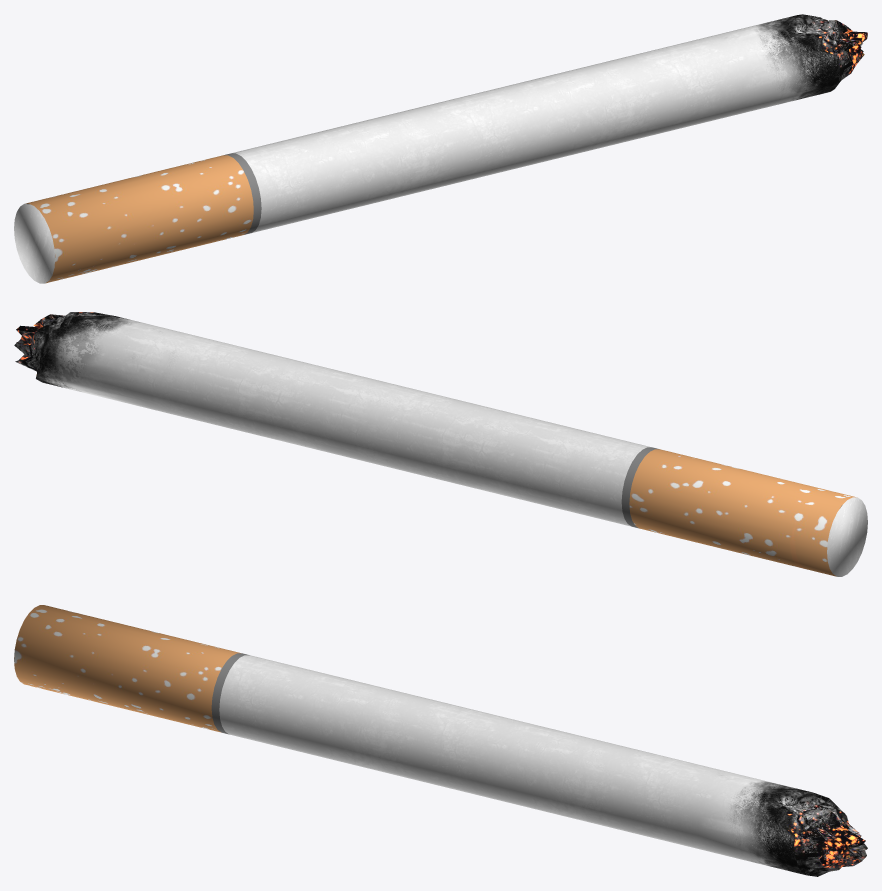
Rendered from cigarette.glb.
The picture shows the model from 3 angles, top to bottom: view 1: azimuth 30°, elevation 25°; view 2: azimuth 150°, elevation 25°; view 3: azimuth 330°, elevation 25°; orthographic projection.
Visible parts, largest first — view 1: Circle.001; view 2: Circle.001; view 3: Circle.001.
Boxes of the visible parts, left/top/right/bottom form: Circle.001: left=14, top=14, right=867, bottom=283; Circle.001: left=14, top=312, right=867, bottom=576; Circle.001: left=14, top=605, right=867, bottom=876.
Size of the model in its own units: 6.11 by 0.5254 by 0.5226.
Materials: 1 (1 with a texture image).
